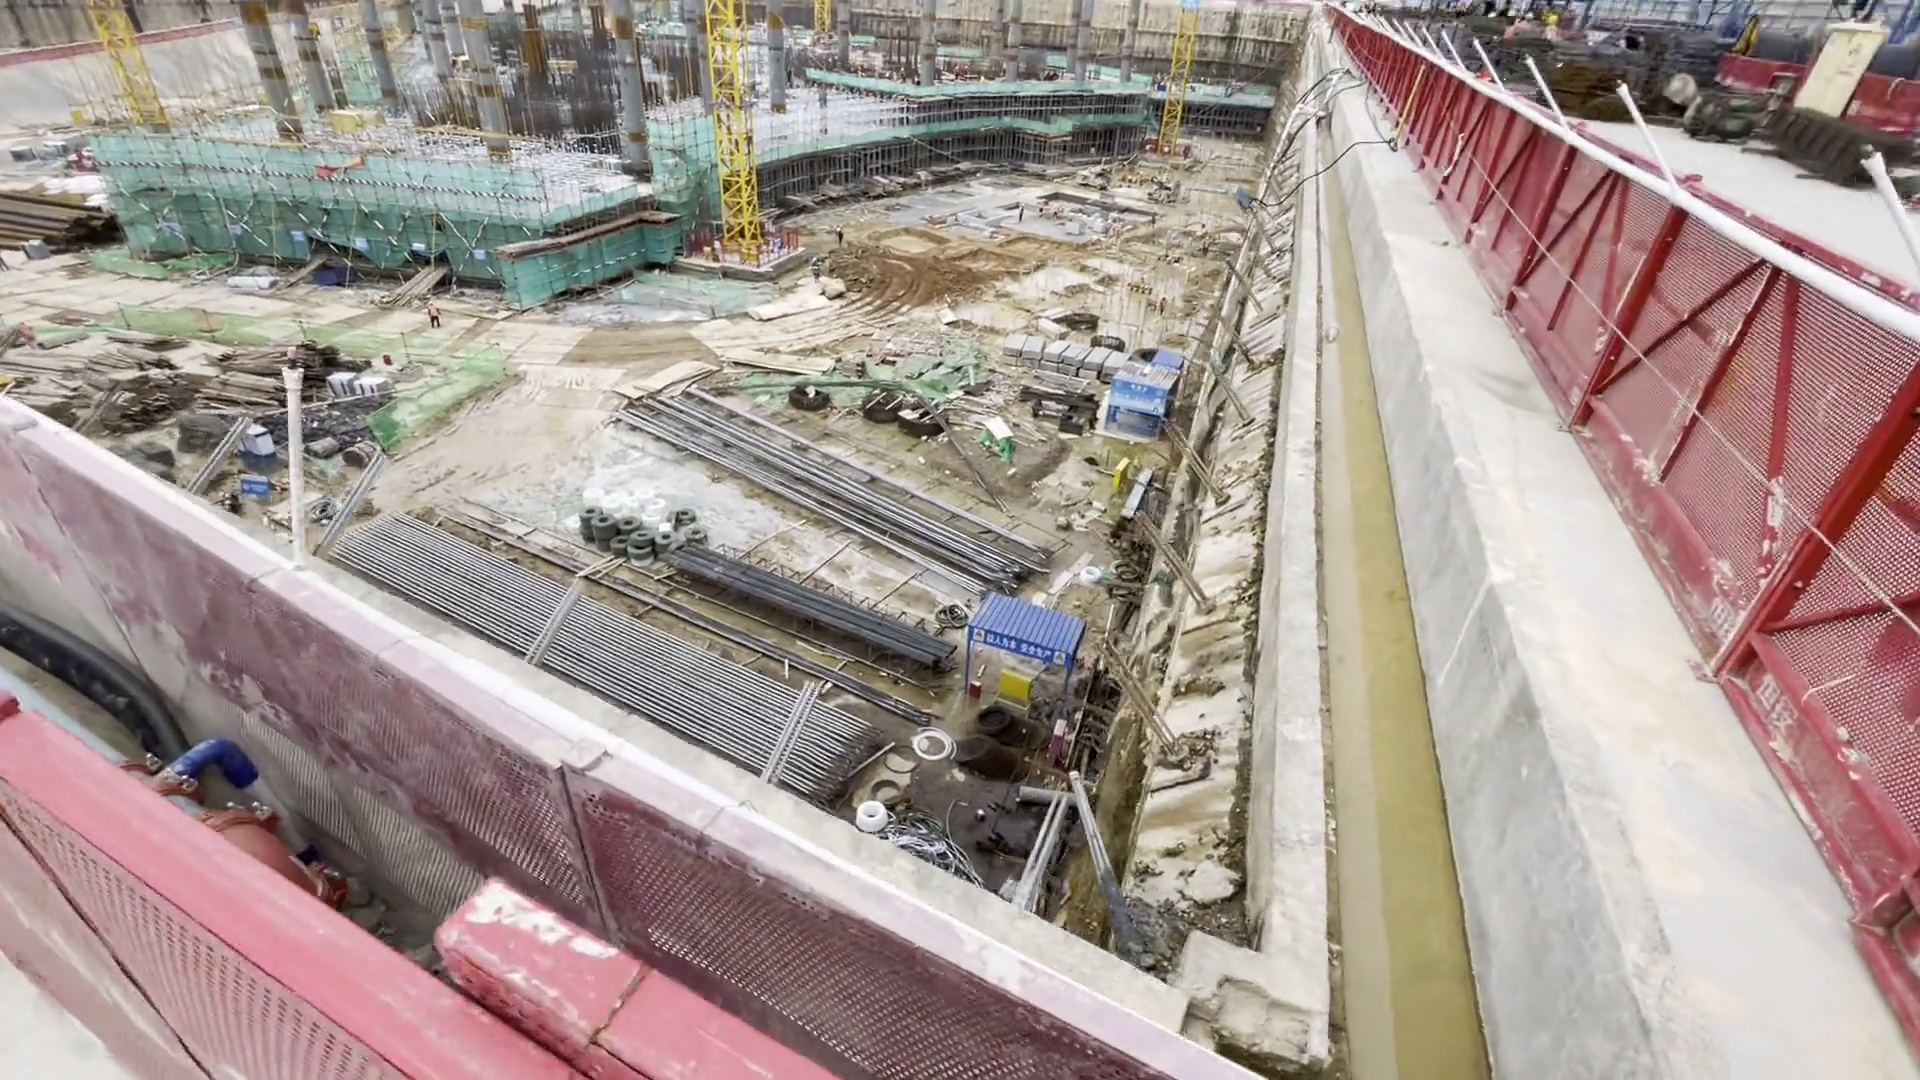brick: (1006, 335, 1126, 384), (333, 377, 399, 408)
ebox: (737, 247, 761, 267)
fence: (1, 369, 639, 928), (1469, 159, 1873, 600)
hopper: (310, 265, 352, 288)
person: (424, 301, 446, 334), (1012, 203, 1032, 229), (807, 253, 825, 282), (833, 223, 847, 245)
rebar: (672, 559, 943, 663)
slogan: (985, 627, 1063, 660)
vest: (427, 305, 440, 317)
wood: (226, 343, 328, 406)
